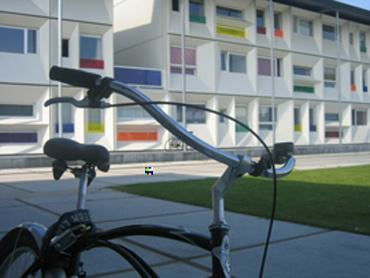car: (2, 64, 297, 278)
